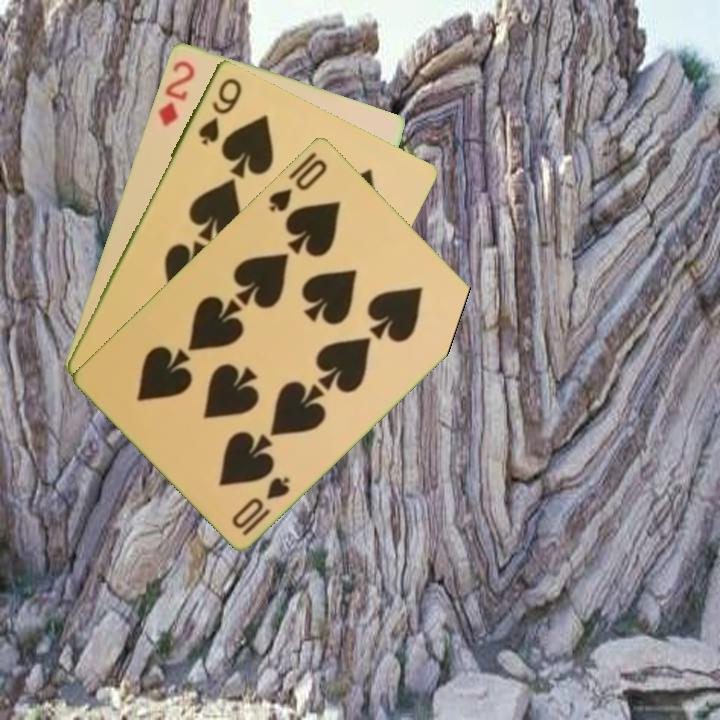10s: (228, 472, 293, 538), (265, 154, 330, 215)
2d: (154, 56, 197, 129)
9s: (194, 73, 245, 148)
